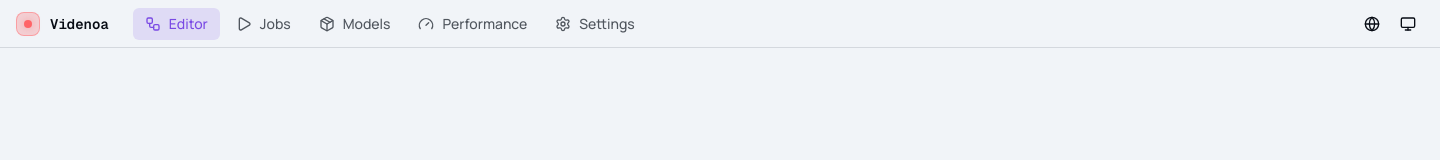
Header desktop runtime gating › switches locale and persists locale state
This screenshot has width=1440, height=160.
Step 1. Press the mouse on the button named "Select language" → (1372, 24), box [1356,8,1388,40]
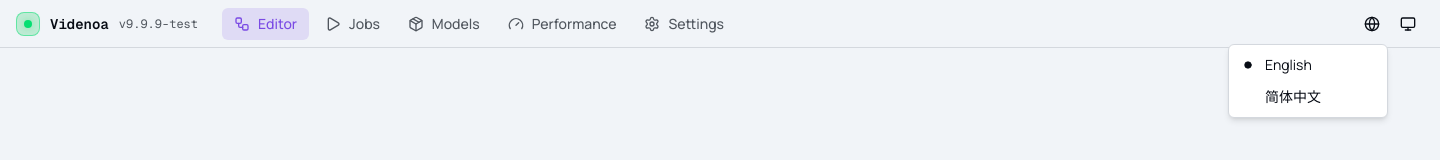
Check: the number of menu items is 2
Step 2. Click the menu item "简体中文" → (1293, 96), box [1265,87,1321,106]
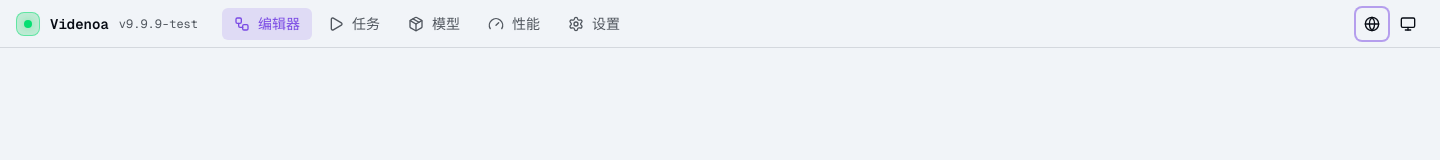
Check: the text "编辑器" is shown, box [258,14,300,34]
